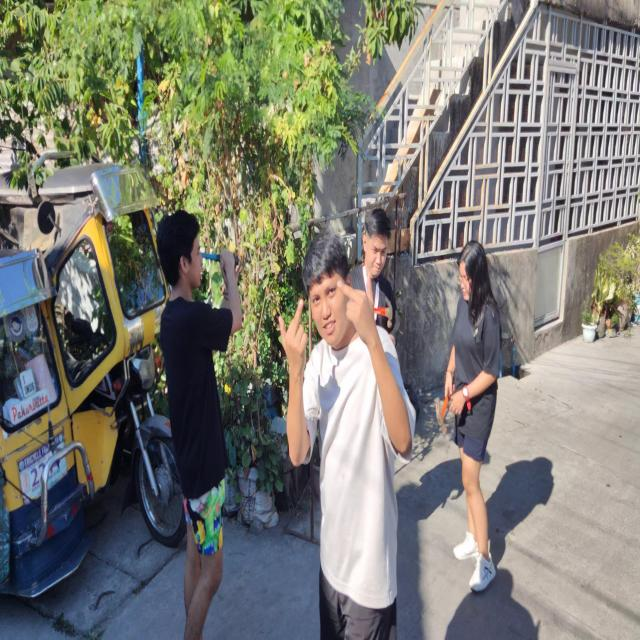hammer: (436, 381, 454, 434), (373, 296, 393, 328)
